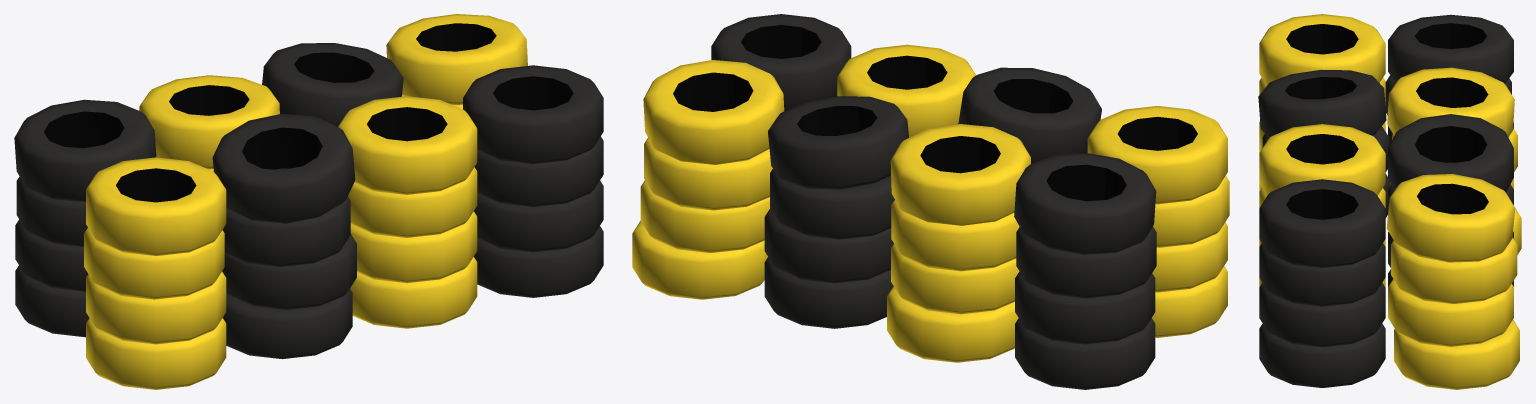
File: Tyre_4x8.FBX
The picture shows the model from 3 angles, left to right: view 1: azimuth 30°, elevation 25°; view 2: azimuth 150°, elevation 25°; view 3: azimuth 270°, elevation 25°; orthographic projection. The views are drawn at different scales.
Parts seen in each view (by area): view 1: prop_tyre_block; view 2: prop_tyre_block; view 3: prop_tyre_block.
Boxes of the visible parts, left/top/right/bottom form: prop_tyre_block: left=14, top=14, right=603, bottom=389; prop_tyre_block: left=632, top=14, right=1229, bottom=389; prop_tyre_block: left=1258, top=14, right=1521, bottom=389.
Bounding box in the file's own units: 138 × 50.47 × 69.2.
